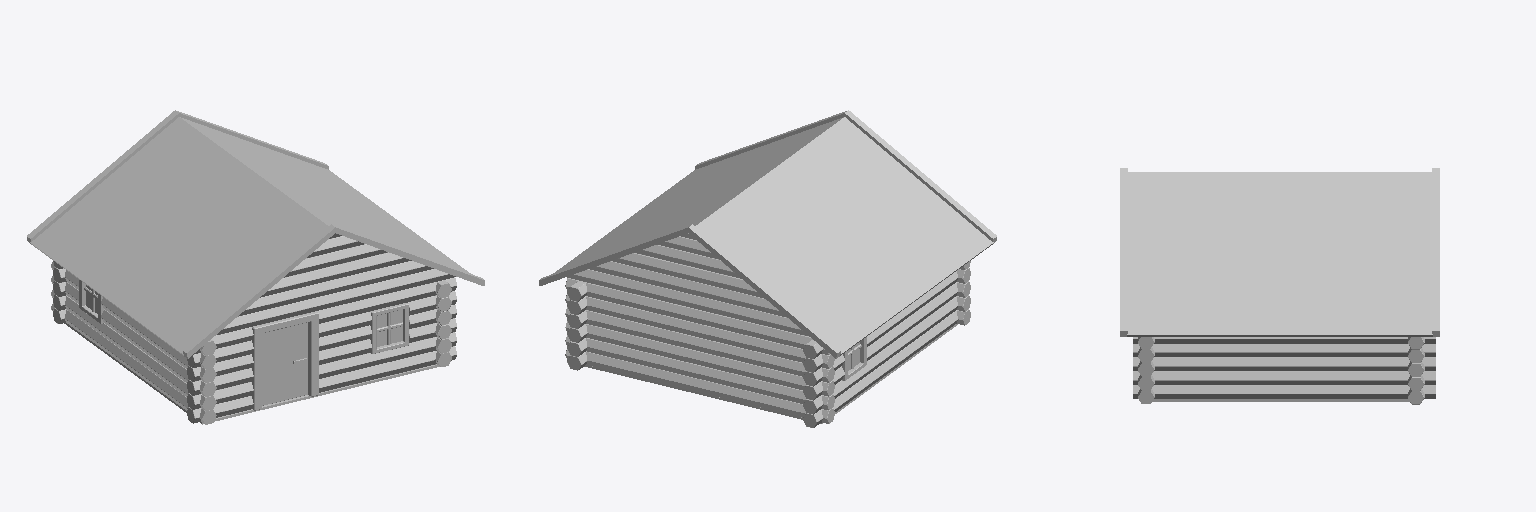
The model's file is Cottage_test.obj.
3 renders of one model, left to right at view 1: azimuth 30°, elevation 25°; view 2: azimuth 150°, elevation 25°; view 3: azimuth 270°, elevation 25°, orthographic.
Visible parts, largest first — view 1: Cottage_test; view 2: Cottage_test; view 3: Cottage_test.
Part boxes in pixels (x1,y1,x2,y2): Cottage_test: (27,110,484,424); Cottage_test: (539,110,996,427); Cottage_test: (1120,168,1439,404).
Bounding box in the file's own units: 649 × 363 × 603.